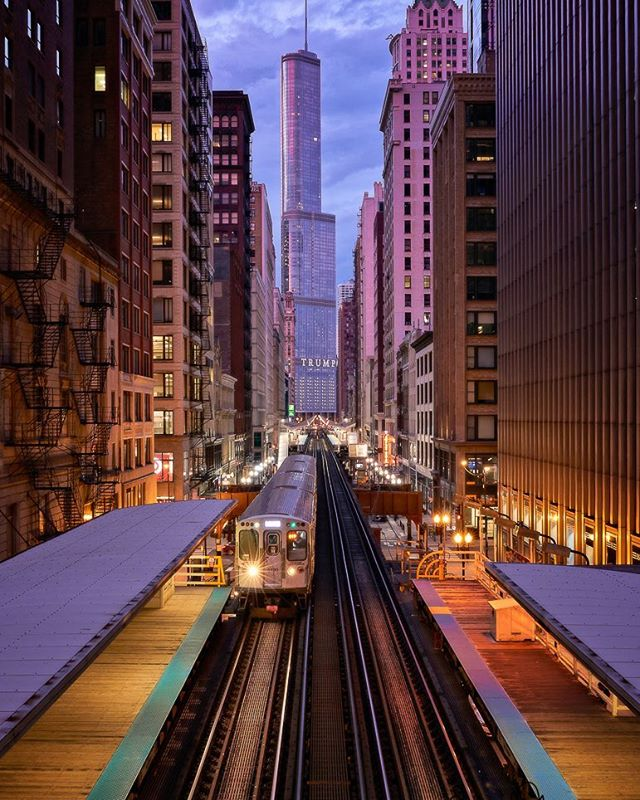building: (490, 1, 640, 533), (1, 1, 153, 498), (370, 1, 475, 480), (143, 1, 223, 485), (272, 36, 344, 419), (429, 75, 495, 492), (199, 102, 266, 470)
train: (231, 455, 318, 633)
train track: (315, 459, 479, 800), (160, 624, 335, 800)
